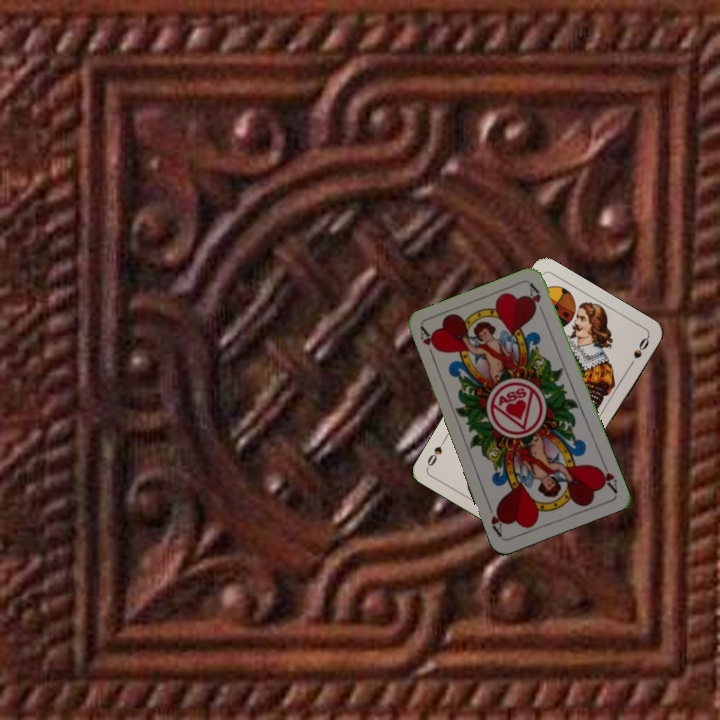HA: (593, 456, 620, 495), (416, 324, 439, 363)
